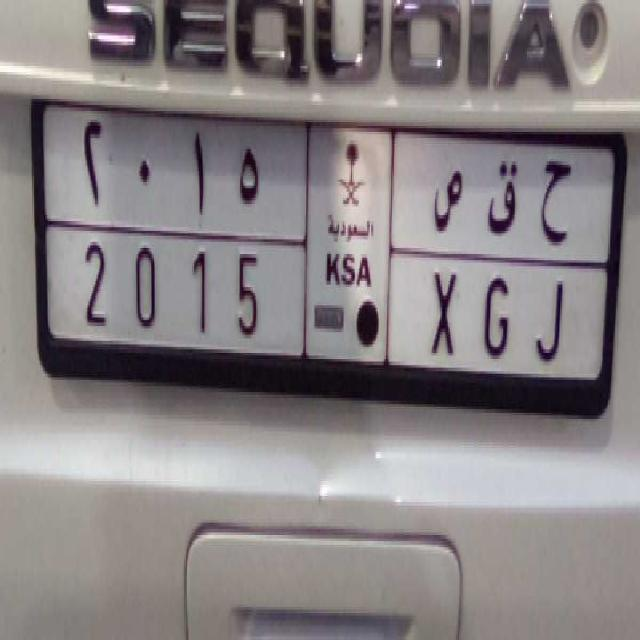license_plate: (51, 228, 601, 387)
